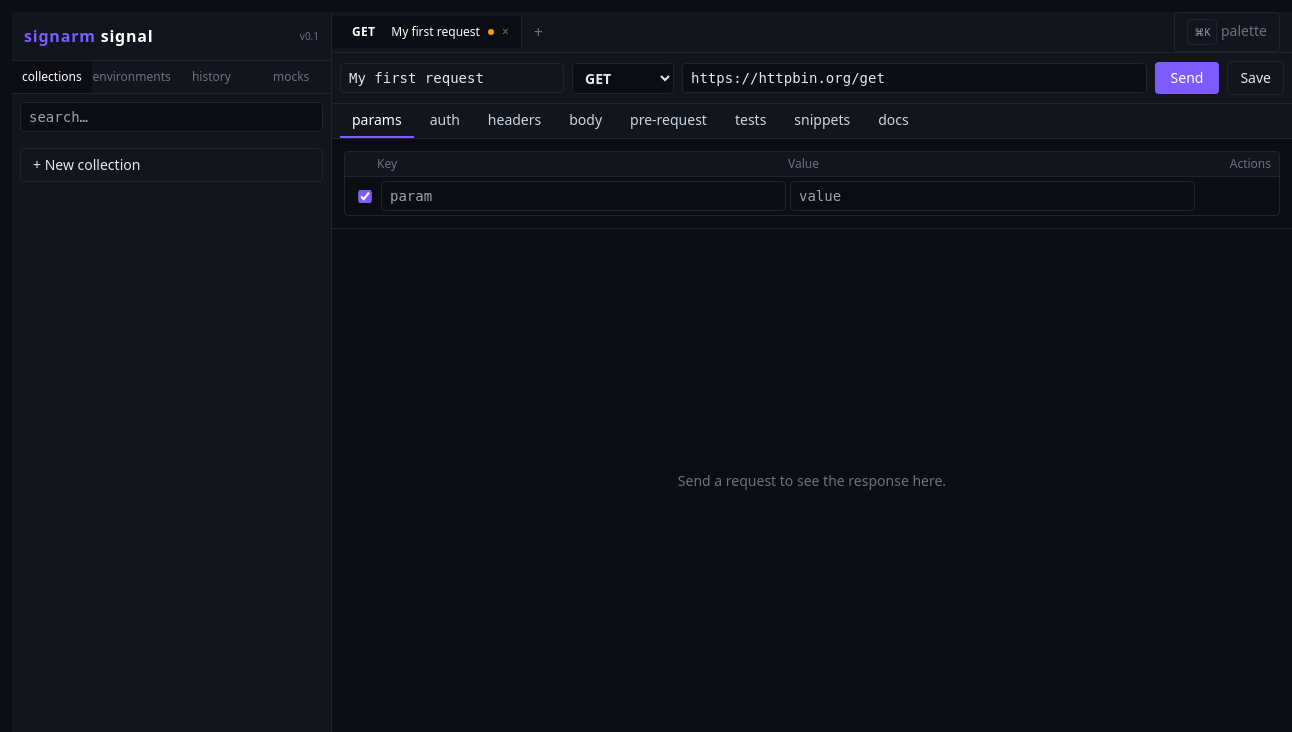
Test case: send request flow › sending a GET renders the response body
This screenshot has width=1292, height=732.
Expected: the button "Send" is shown, [1155,62,1220,94]
Step 1. Replace the text in the 2nd field with placeholder "api.example.com" with "https://example.test/ping" → (914, 78), box [682,63,1147,93]
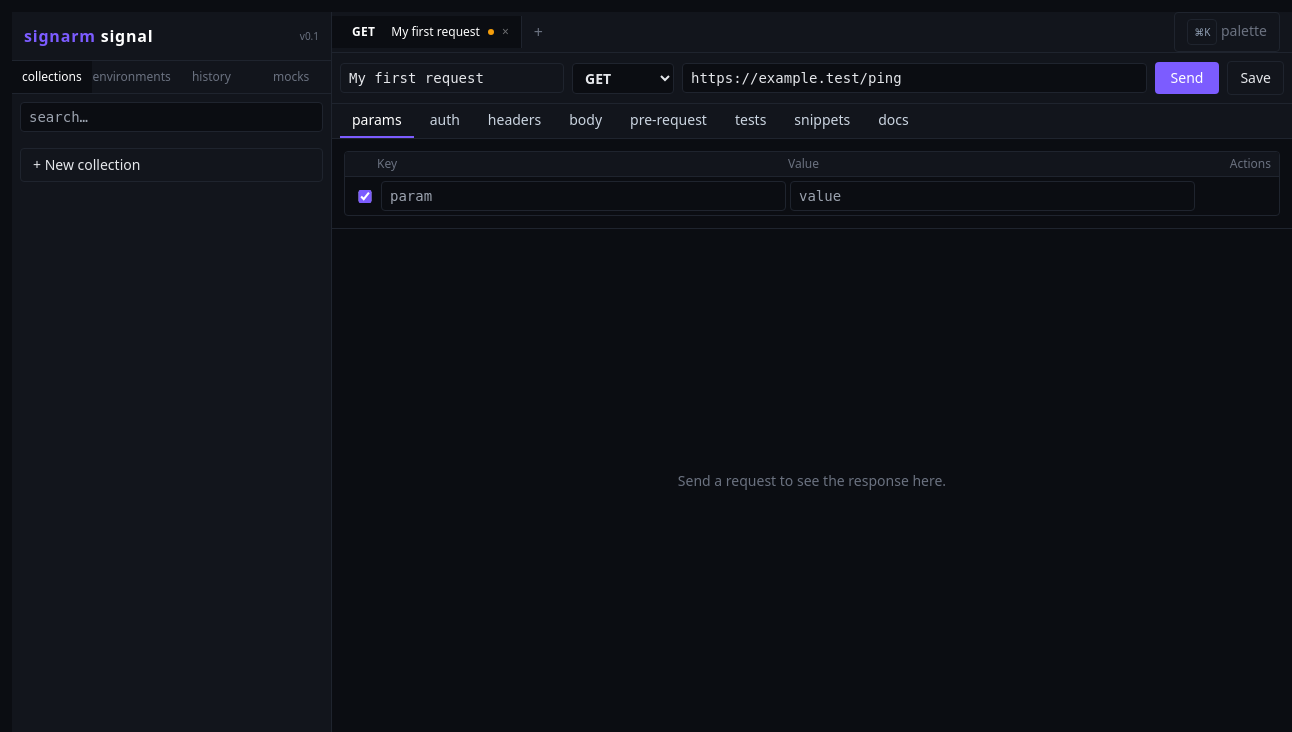
Step 2. Click the button "Send" → (1187, 78), box [1155,62,1220,94]
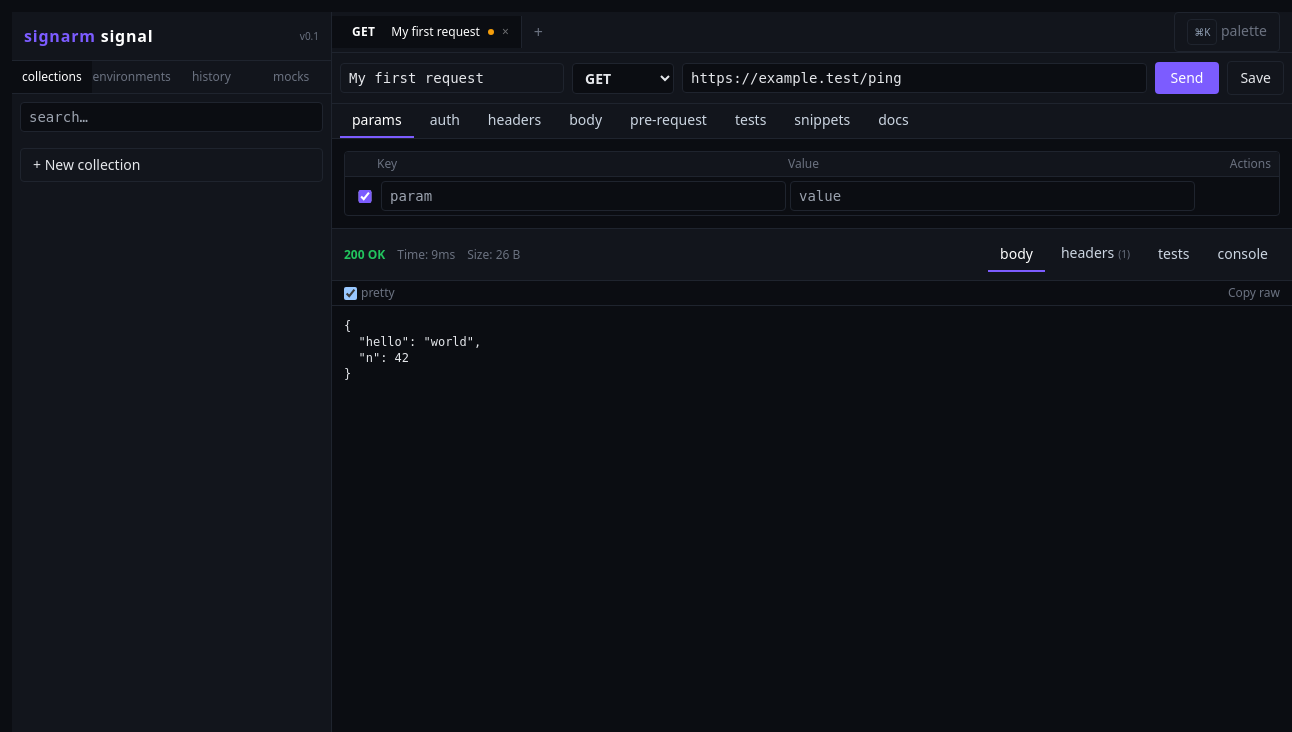
Expected: the text "200 OK" is shown, [344,246,385,262]
Expected: the text "{ \"hello\": \"world\", \"n\": 42 }" is shown, [344,319,481,381]
